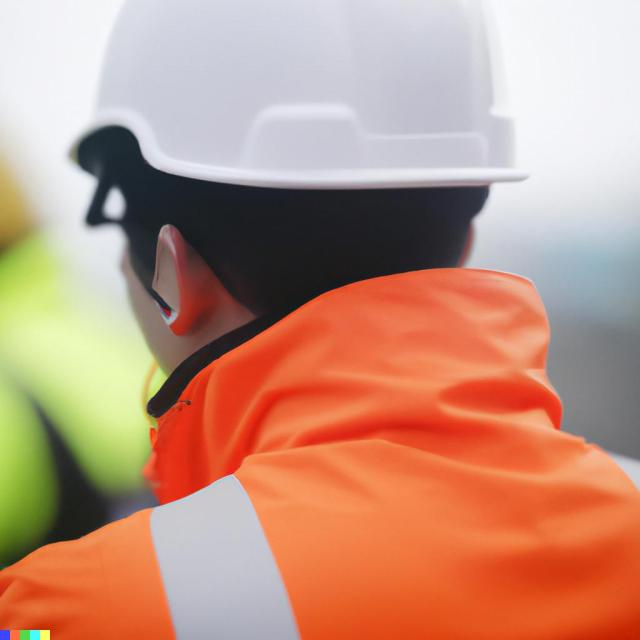Reflective-Jacket: (16, 263, 640, 638)
Safety-Helmet: (71, 10, 535, 198)
